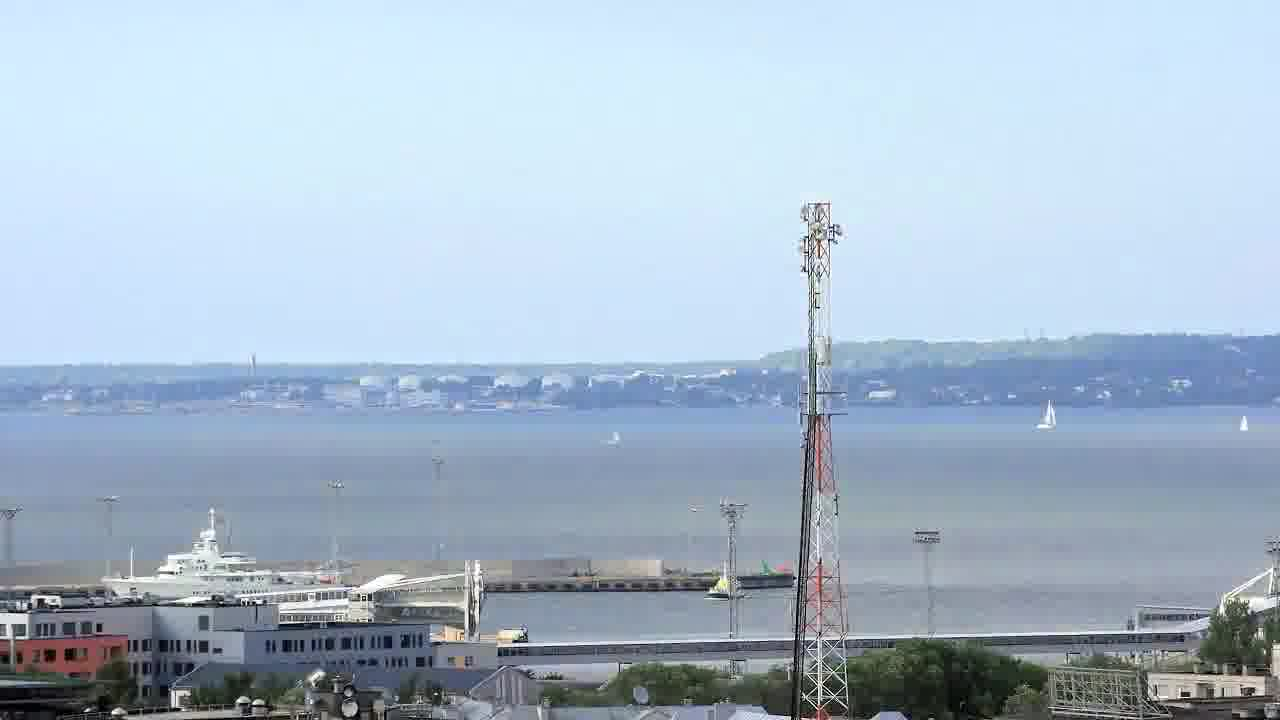type-0: (701, 558, 752, 608)
type-2: (1027, 385, 1075, 445)
type-3: (88, 507, 346, 605)
